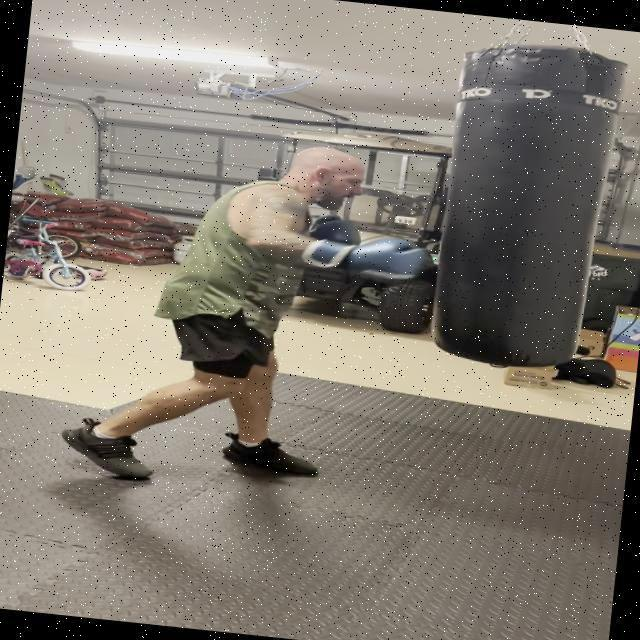punch: (172, 126, 478, 328)
